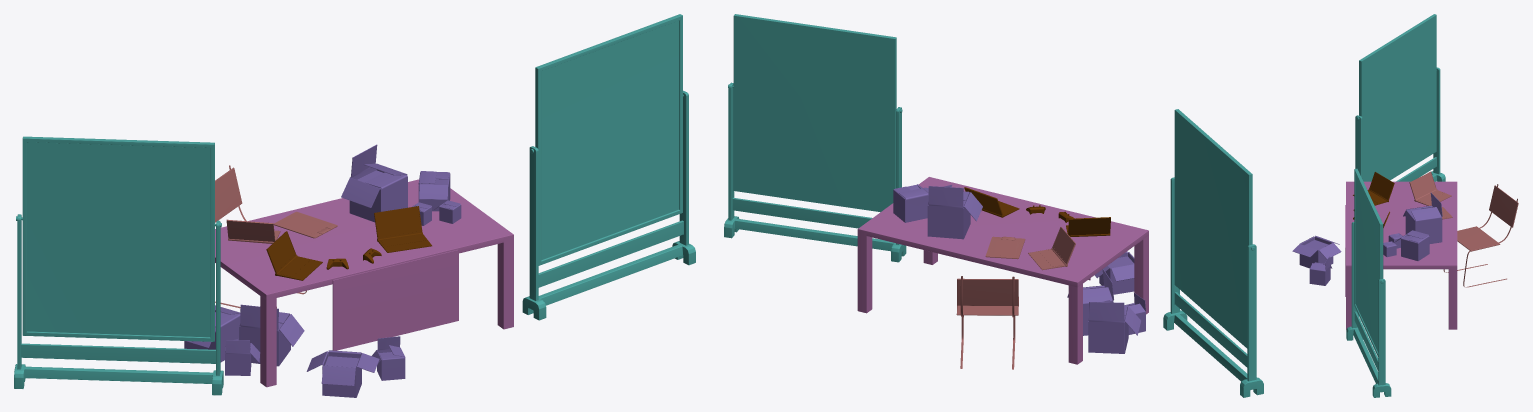
The model's file is Gaming_Club.fbx.
3 renders of one model, left to right at view 1: azimuth 30°, elevation 25°; view 2: azimuth 150°, elevation 25°; view 3: azimuth 270°, elevation 25°, orthographic. The views are drawn at different scales.
Visible parts, largest first — view 1: Mirror_Mirror, Mirror_Mirror1, pCube1, Name_Board, Mirror_Stand1, Mirror_Stand, Box_Ajar3, Box_Open, Box_Ajar2, pCube2, pCube3, Box_Ajar4 (+6 smaller); view 2: Mirror_Mirror1, Mirror_Mirror, pCube1, Mirror_Stand1, Mirror_Stand, Box_Ajar3, Box_Ajar, pCube12, pCube4, Box_Closed, pCube5, Box_Open (+4 smaller); view 3: Mirror_Mirror, pCube1, Mirror_Mirror1, Mirror_Stand1, Mirror_Stand, Box_Ajar3, Box_Open, Box_Closed, Laptop_Screen (×2), pCube12, pCube14, pCube4 (+2 smaller).
Boxes of the visible parts, x1,y1,x2,y2 form: Mirror_Mirror: (22, 136, 214, 341); Mirror_Mirror1: (535, 14, 682, 265); pCube1: (215, 179, 513, 300); Name_Board: (332, 249, 458, 350); Mirror_Stand1: (522, 90, 695, 320); Mirror_Stand: (14, 214, 223, 395); Box_Ajar3: (341, 144, 407, 222); Box_Open: (306, 350, 379, 397); Box_Ajar2: (239, 304, 304, 366); pCube2: (260, 292, 276, 387); pCube3: (497, 235, 513, 329); Box_Ajar4: (372, 336, 405, 380); Mirror_Mirror1: (733, 14, 896, 212); Mirror_Mirror: (1174, 109, 1252, 348); pCube1: (857, 177, 1148, 287); Mirror_Stand1: (724, 82, 906, 262); Mirror_Stand: (1163, 177, 1263, 397); Box_Ajar3: (927, 185, 982, 239); Box_Ajar: (1088, 300, 1140, 353); pCube12: (957, 278, 1018, 305); pCube4: (857, 230, 872, 313); Box_Closed: (893, 184, 928, 222); pCube5: (1068, 284, 1082, 364); Box_Open: (1094, 251, 1134, 294); Mirror_Mirror: (1359, 14, 1436, 181); pCube1: (1346, 181, 1457, 269); Mirror_Mirror1: (1354, 168, 1383, 356); Mirror_Stand1: (1346, 222, 1391, 397); Mirror_Stand: (1355, 67, 1445, 181); Box_Ajar3: (1403, 192, 1442, 243); Box_Open: (1292, 235, 1341, 268); Box_Closed: (1394, 230, 1429, 260); Laptop_Screen (×2): (1370, 173, 1435, 198); pCube12: (1489, 185, 1518, 227); pCube14: (1457, 226, 1500, 251); pCube4: (1448, 266, 1457, 329).
Size of the model in its own units: 578 by 214 by 255.
